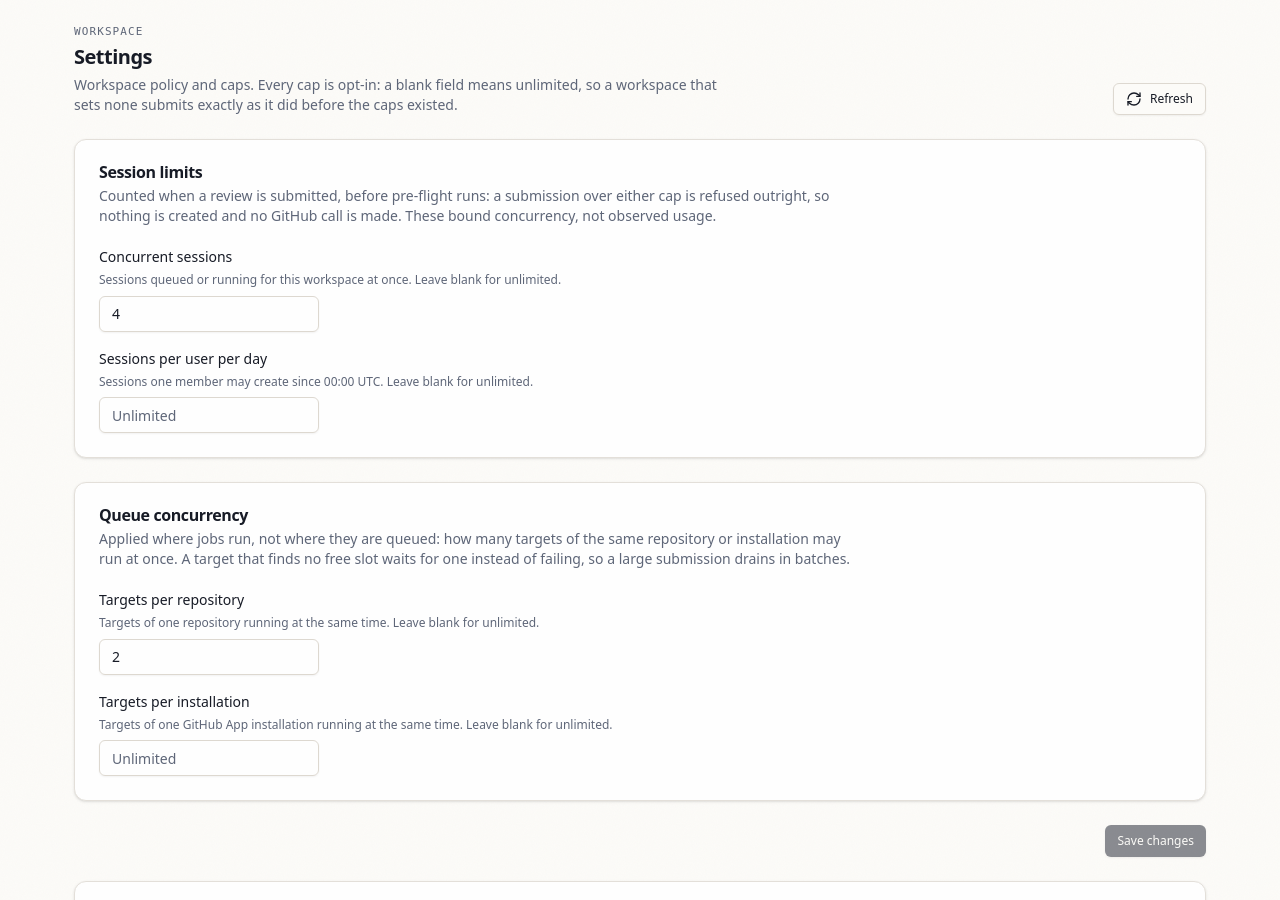
it: SettingsScreen › keeps the server's own words when a save is refused
Type "3" into the field labelled "Targets per installation" at (209, 758), box [99,740,319,776]
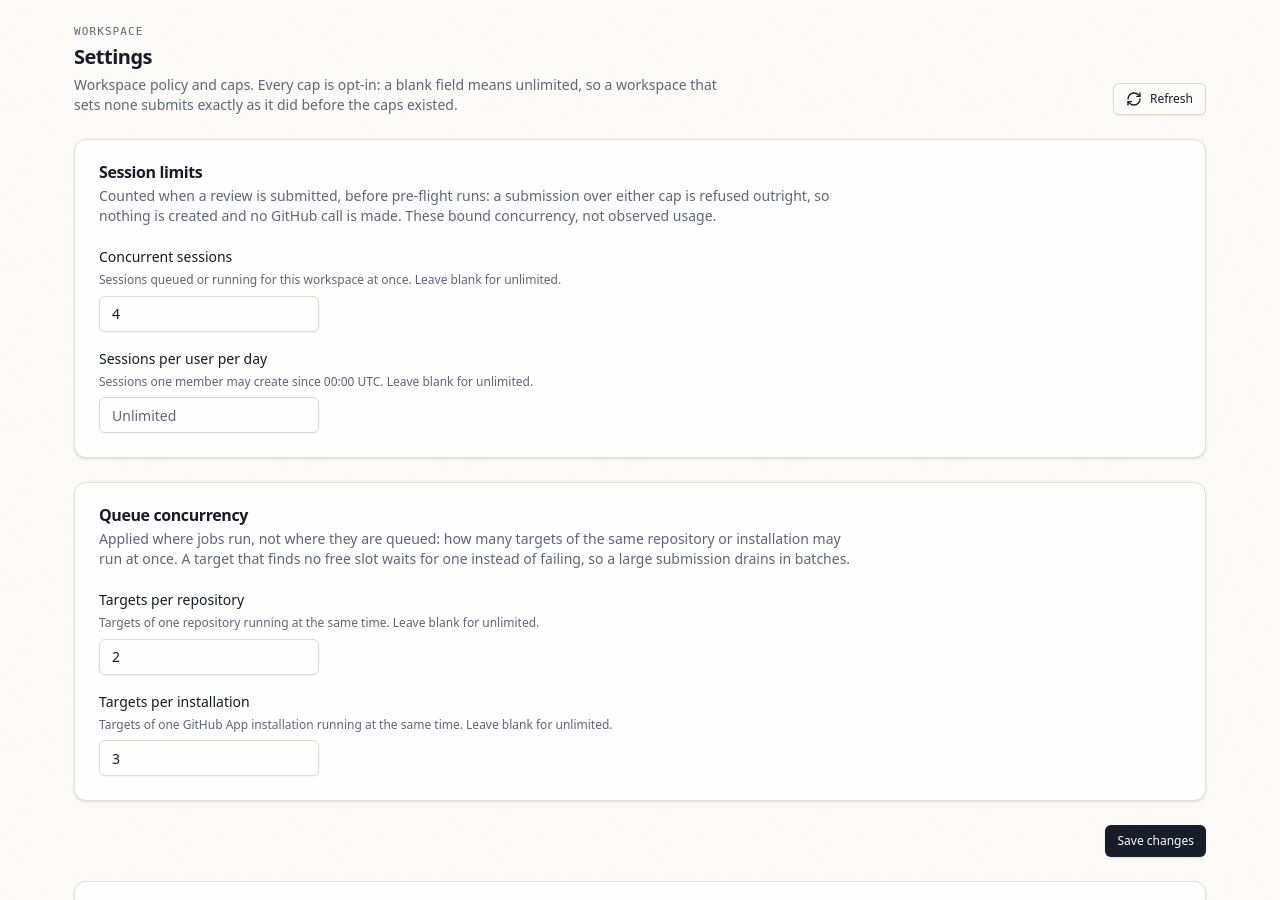
Click the button "Save changes" at (1156, 841), box [1106,825,1206,857]
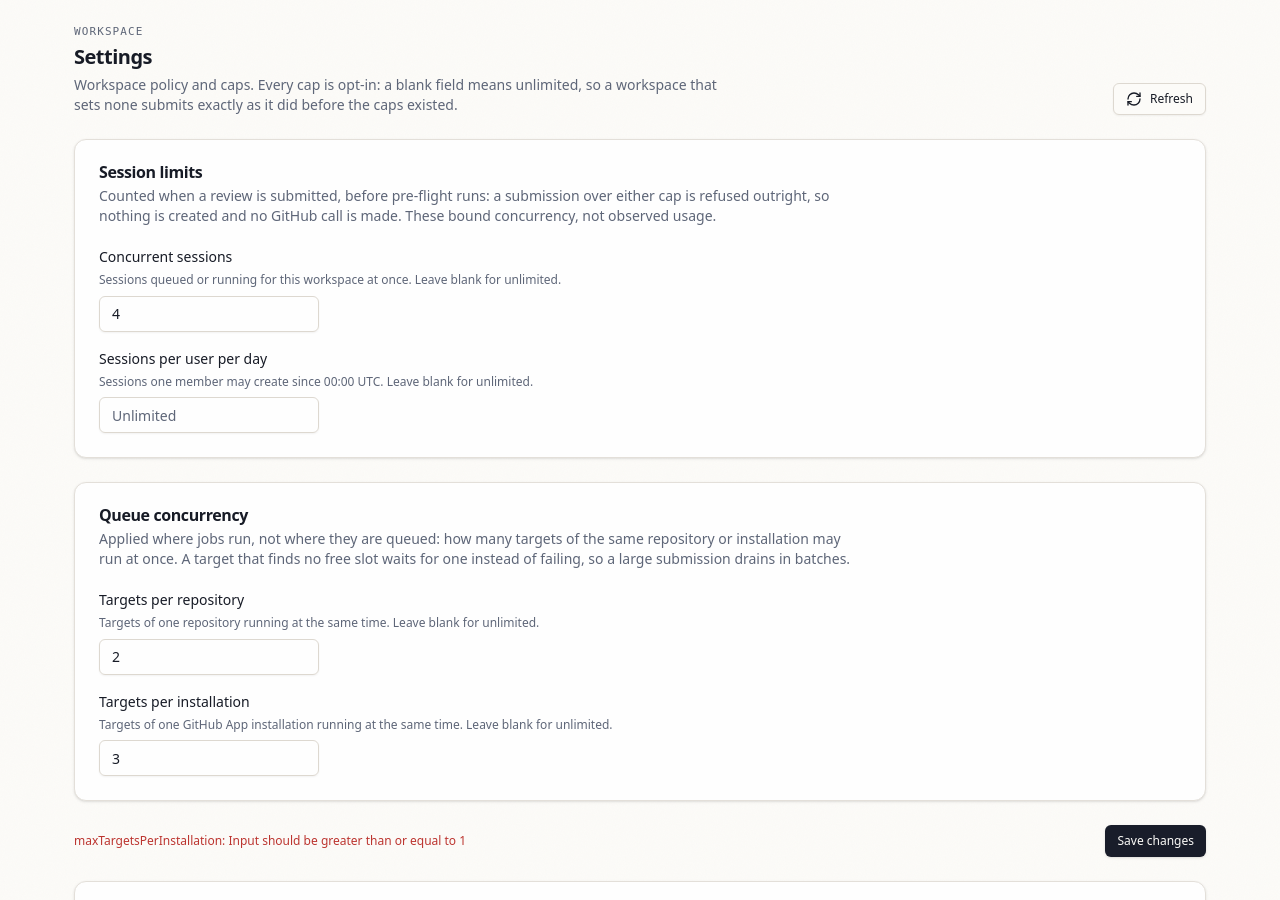
Now the message shows "greater than or equal to 1", box [74,832,466,850]
